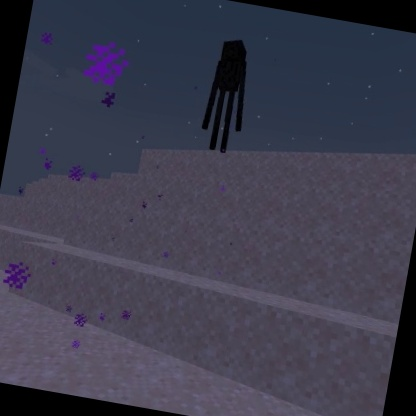enderman: (195, 33, 260, 159)
